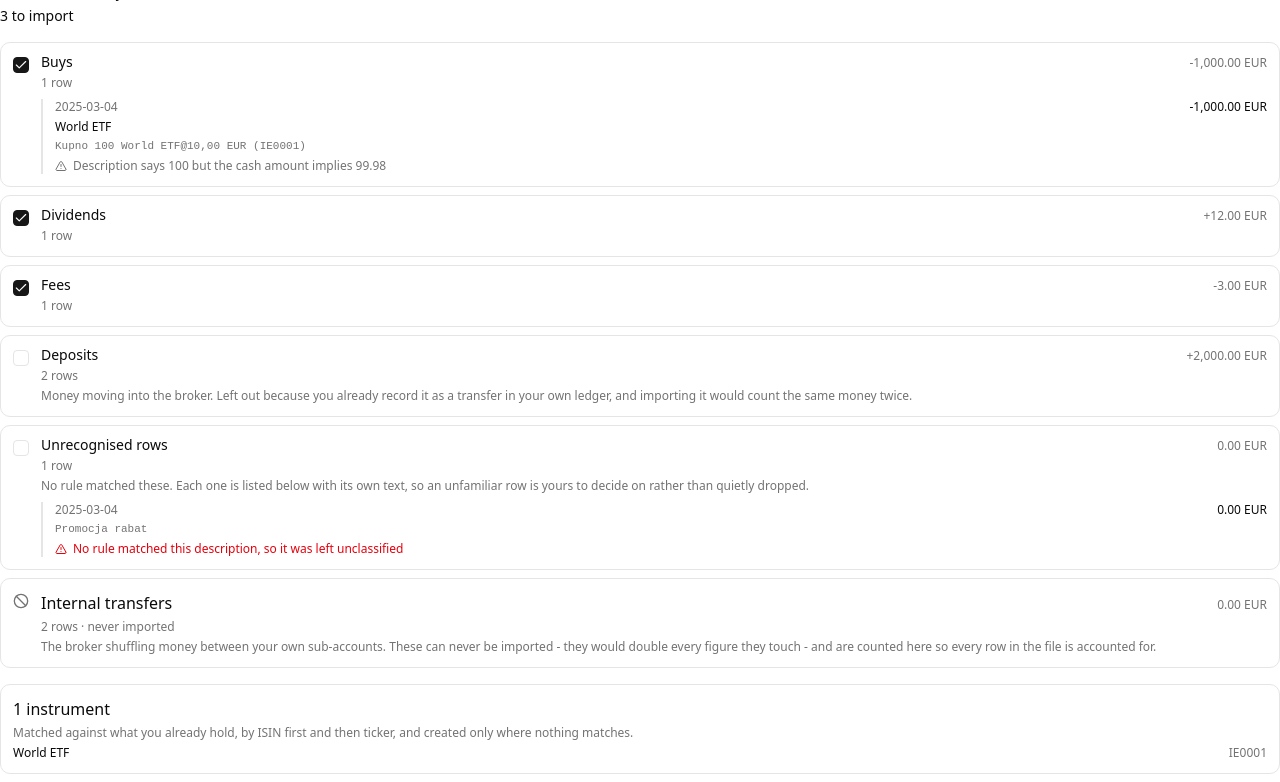
ImportPreview reconciliation › moves the difference when the deposits are ticked directly
Click the checkbox named "Deposits" next to "Deposits" at (21, 358), box [13,350,29,366]
(page scrolled)
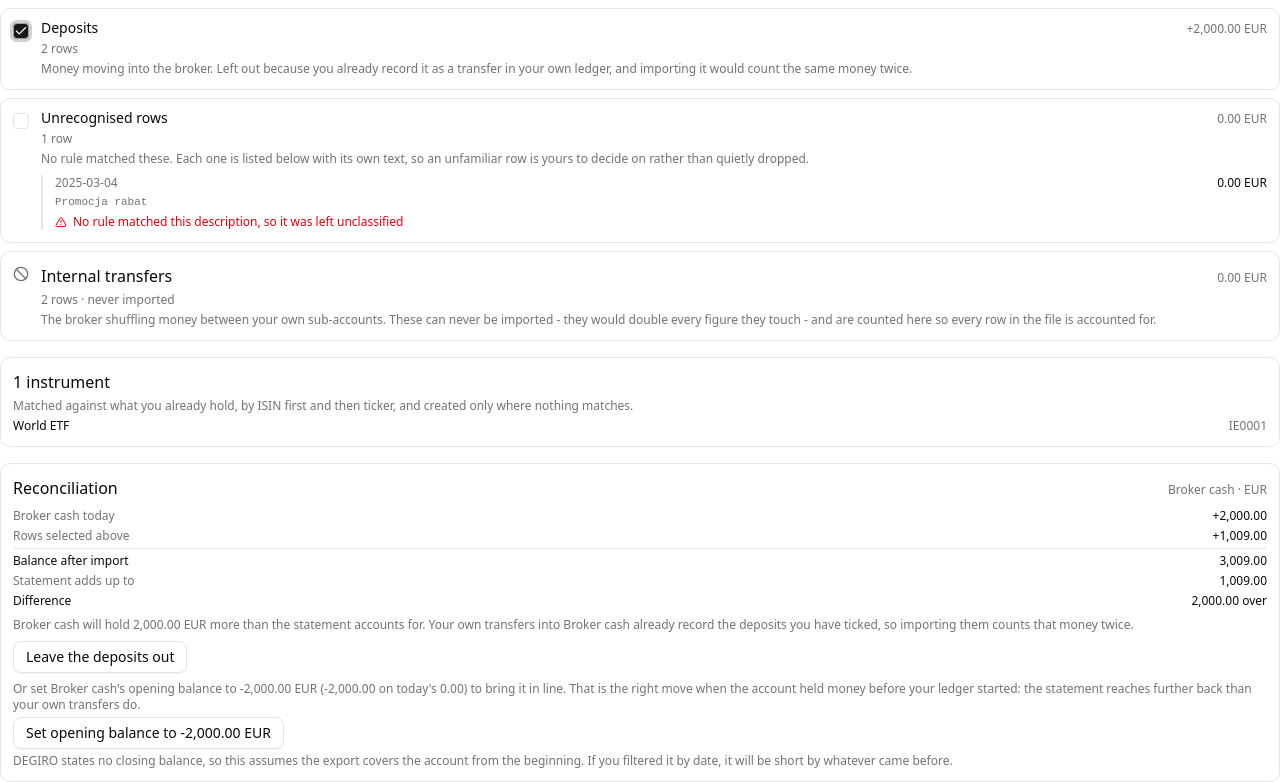
Now the text "2,000.00 over" is shown, box [1191,593,1267,609]
Click the button "Leave the deposits out" at (100, 657), box [13,641,188,673]
(page scrolled)
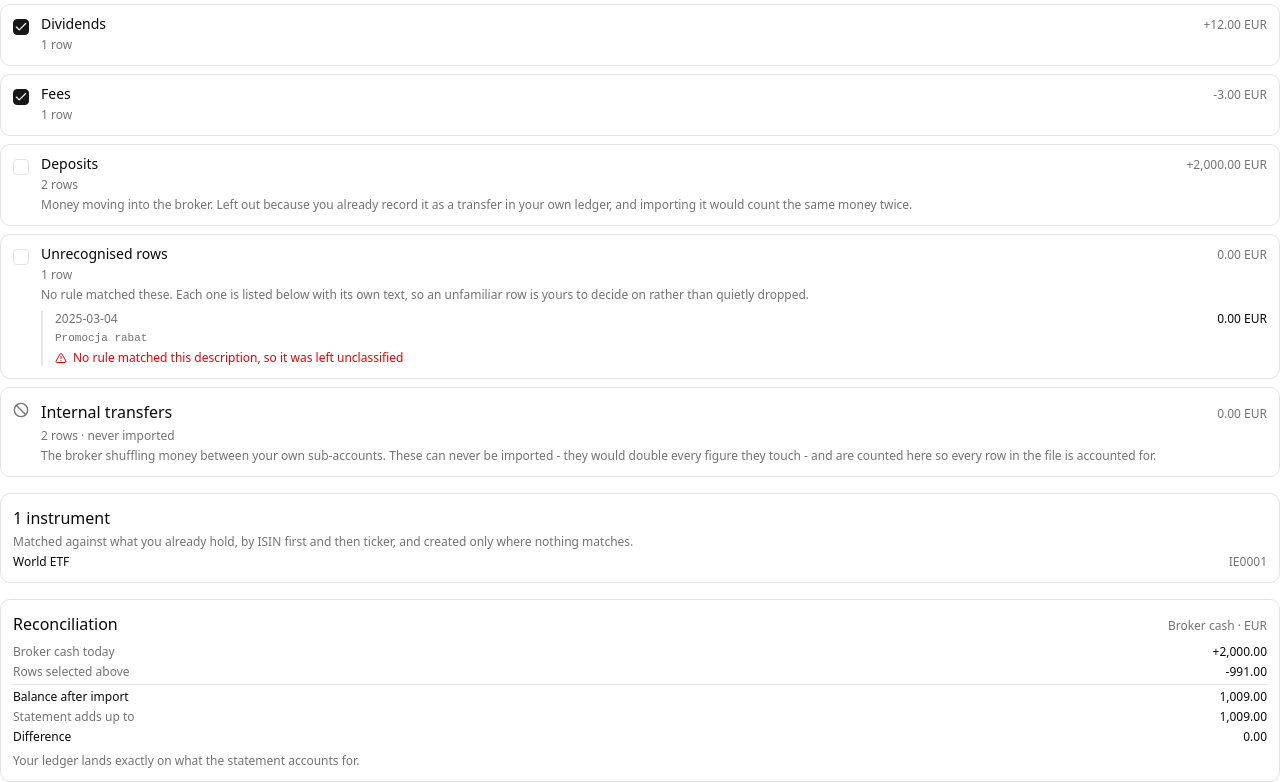
Now the checkbox named "Deposits" next to "Deposits" is not checked, box [13,159,29,175]
Now the text "lands exactly on what the statement accounts for" is shown, box [13,752,359,769]
